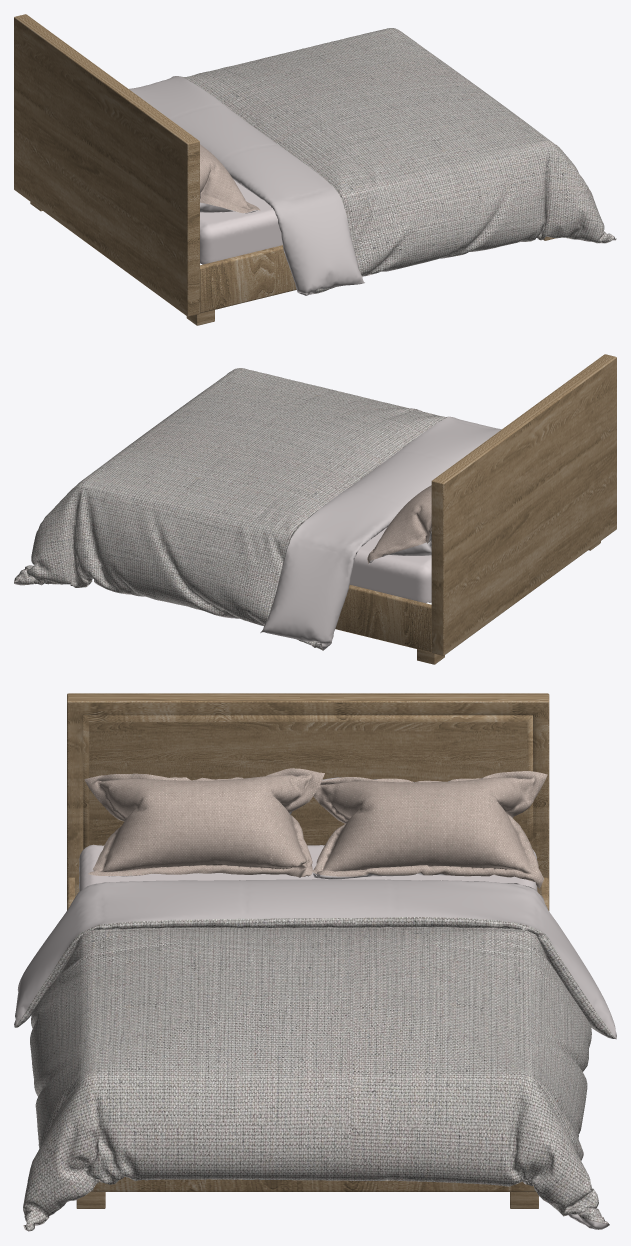
Rendered from bed_simple.glb.
The picture shows the model from 3 angles, top to bottom: view 1: azimuth 30°, elevation 25°; view 2: azimuth 150°, elevation 25°; view 3: azimuth 270°, elevation 25°; orthographic projection. The views are drawn at different scales.
Parts seen in each view (by area): view 1: Set, ChamferBox003, ChamferBox001, default_Sheet_0; view 2: Set, ChamferBox003, ChamferBox001, default_Sheet_0; view 3: Set, ChamferBox003, ChamferBox001, default_Sheet_0.
Part boxes in pixels (x1,y1,x2,y2): Set: (129,28,616,295); ChamferBox003: (14,14,199,316); ChamferBox001: (200,245,296,313); default_Sheet_0: (200,180,282,264); Set: (14,368,501,650); ChamferBox003: (431,354,616,655); ChamferBox001: (335,585,431,652); default_Sheet_0: (349,527,431,603); Set: (14,768,616,1231); ChamferBox003: (67,693,549,897); ChamferBox001: (67,877,549,1191); default_Sheet_0: (79,844,537,891).
Size of the model in its own units: 2.29 by 0.989 by 2.08.
5 materials, 3 textured.
